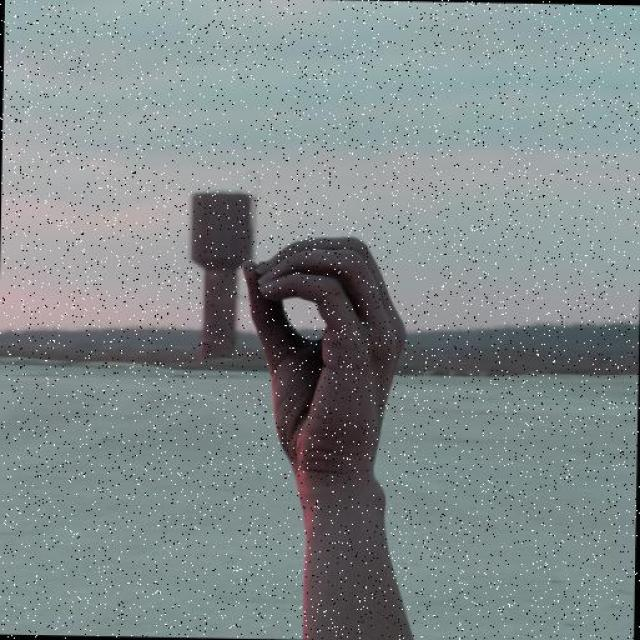O: (238, 228, 413, 478)
